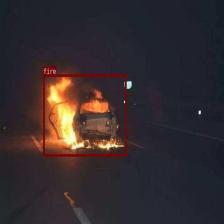fire: (43, 74, 126, 156)
